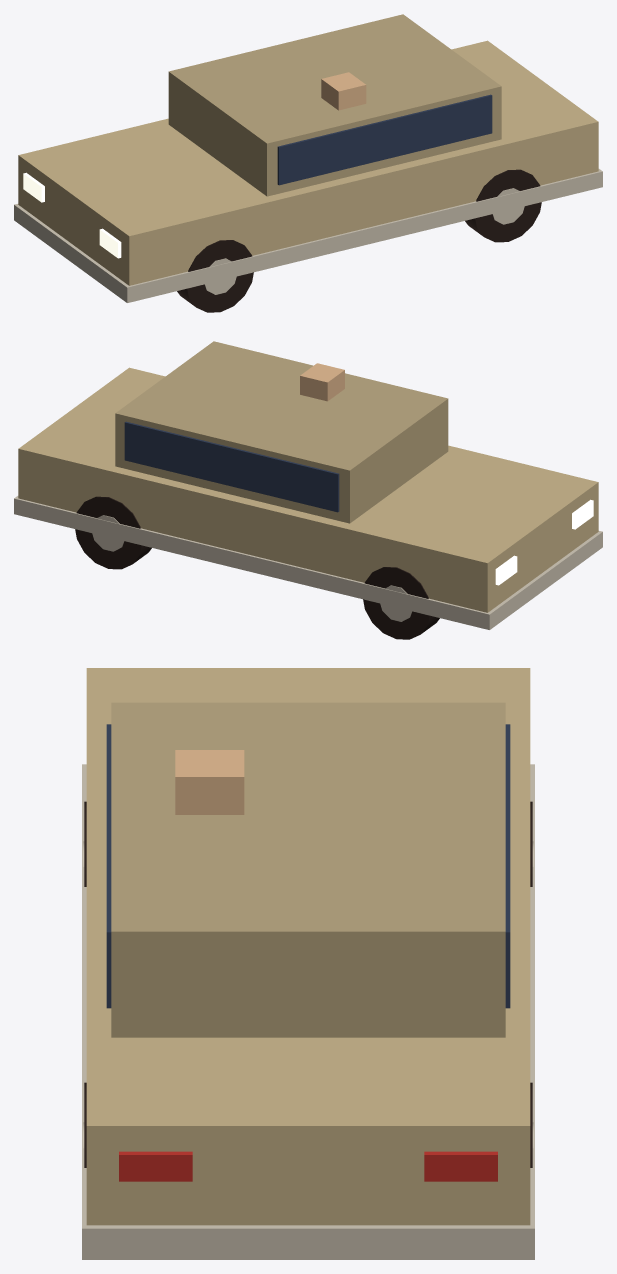
Rendered from traffic_3.glb.
3 renders of one model, top to bottom at view 1: azimuth 30°, elevation 25°; view 2: azimuth 150°, elevation 25°; view 3: azimuth 270°, elevation 25°, orthographic. The views are drawn at different scales.
Parts seen in each view (by area): view 1: Box1, Box2, Box4, Box3, Part2, Part4, Box10, Box7, Box5; view 2: Box1, Box2, Box4, Box3, Part1, Part3, Box10, Box5, Box7; view 3: Box2, Box1, Box4, Box10, Box3, Box6, Box8.
Part boxes in pixels (x1,y1,x2,y2): Box1: (18,40,598,285); Box2: (168,14,501,196); Box4: (14,169,602,302); Box3: (277,94,492,185); Part2: (465,169,541,242); Part4: (177,240,253,312); Box10: (321,72,366,110); Box7: (99,228,121,258); Box5: (23,172,44,202); Box1: (18,367,598,612); Box2: (115,341,448,523); Box4: (14,496,602,629); Box3: (124,421,339,512); Part1: (75,496,151,569); Part3: (363,567,439,639); Box10: (300,363,344,401); Box5: (495,555,517,585); Box7: (572,499,593,529); Box2: (111,702,505,1037); Box1: (86,668,530,1225); Box4: (82,764,534,1259); Box10: (175,750,244,814); Box3: (106,724,510,1008); Box6: (424,1151,497,1181); Box8: (119,1151,192,1181).
Size of the model in its own units: 4.46 by 1.52 by 1.84.
